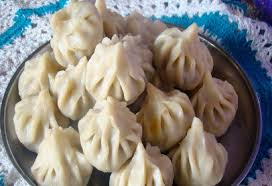modak: (160, 112, 237, 186), (70, 100, 146, 167), (148, 22, 220, 92), (131, 72, 194, 143), (79, 39, 149, 100), (45, 2, 109, 65), (30, 126, 94, 186), (186, 74, 244, 135), (113, 139, 177, 186), (16, 88, 64, 148)
